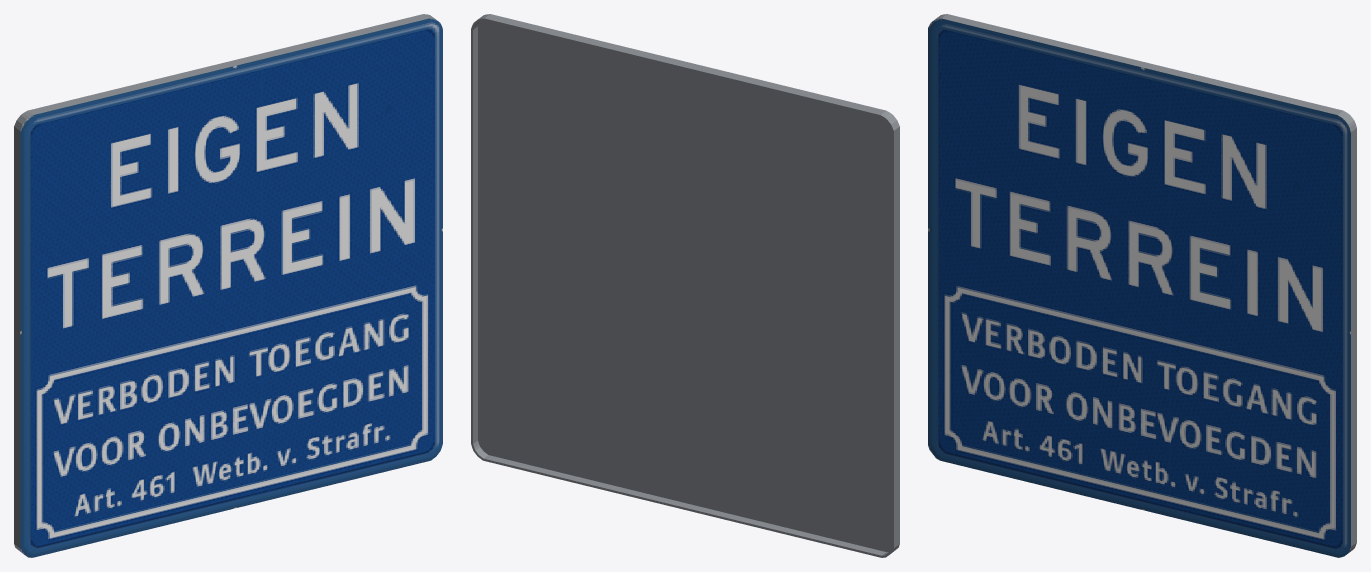
The picture shows the model from 3 angles, left to right: view 1: azimuth 30°, elevation 25°; view 2: azimuth 150°, elevation 25°; view 3: azimuth 330°, elevation 25°; orthographic projection.
Parts seen in each view (by area): view 1: cat_d2b1532ba219f6d1; view 2: cat_d2b1532ba219f6d1; view 3: cat_d2b1532ba219f6d1.
Part boxes in pixels (bbox=[...]): cat_d2b1532ba219f6d1: bbox=[14, 14, 442, 557]; cat_d2b1532ba219f6d1: bbox=[471, 14, 899, 557]; cat_d2b1532ba219f6d1: bbox=[928, 14, 1356, 557].
Bounding box in the file's own units: 0.6 × 0.015 × 0.6.
Materials: 2 (1 with a texture image).
